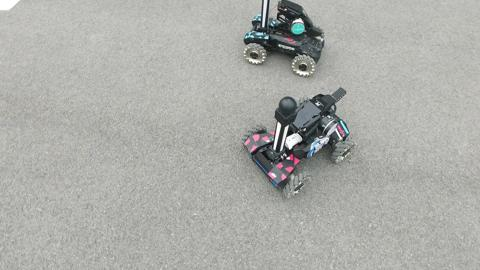chariot: (240, 76, 367, 208), (240, 1, 333, 86)
